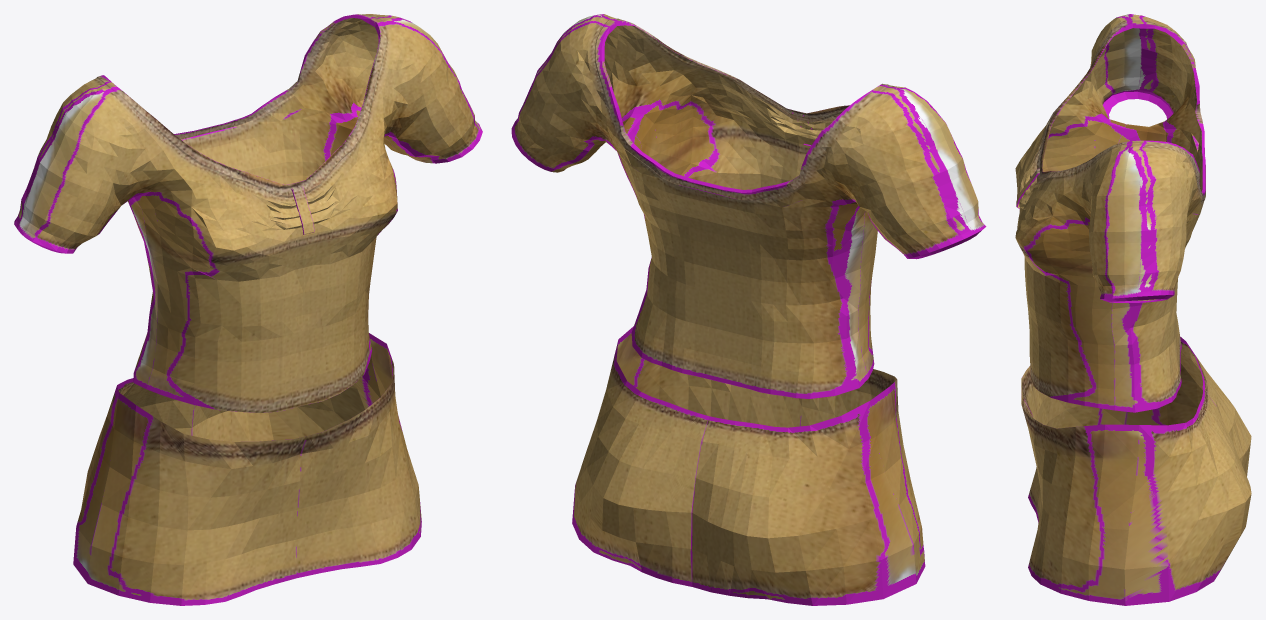
3 renders of one model, left to right at view 1: azimuth 30°, elevation 25°; view 2: azimuth 150°, elevation 25°; view 3: azimuth 270°, elevation 25°, orthographic. The views are drawn at different scales.
Size of the model in its own units: 0.7625 by 0.7791 by 0.3697.
Materials: 1 (1 with a texture image).
